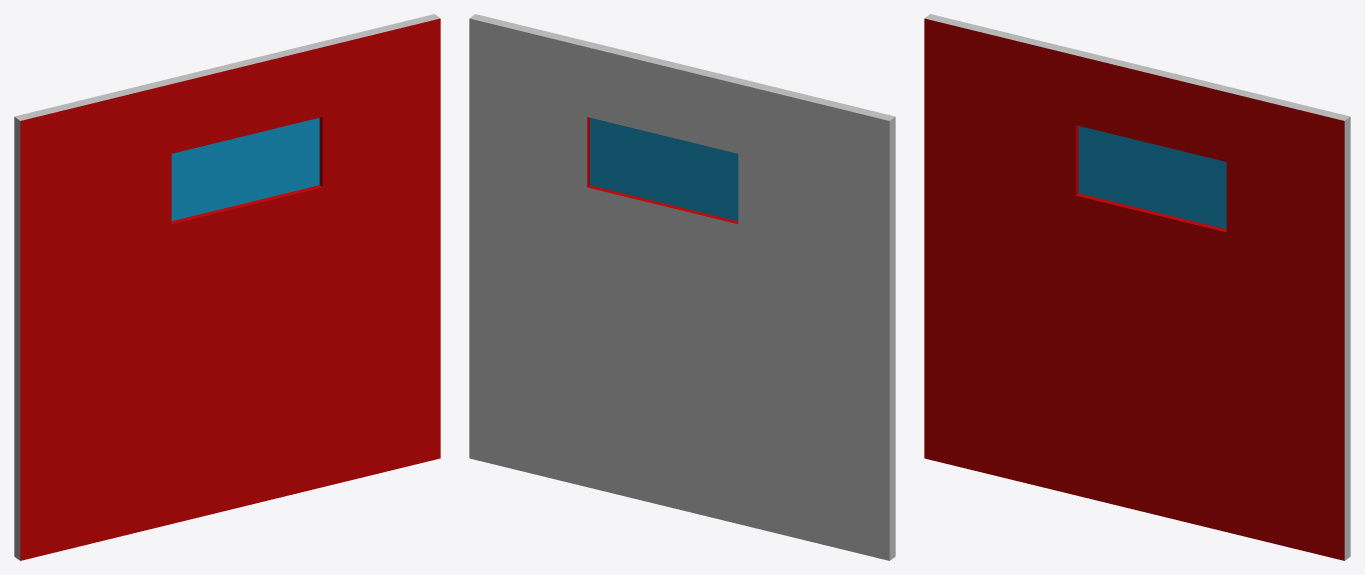
File: WallForPaintingWithWindow.obj
3 views of the same model, side by side, from view 1: azimuth 30°, elevation 25°; view 2: azimuth 150°, elevation 25°; view 3: azimuth 330°, elevation 25° (orthographic).
Parts seen in each view (by area): view 1: Cube_Cube.001; view 2: Cube_Cube.001; view 3: Cube_Cube.001.
Part boxes in pixels (x1,y1,x2,y2): Cube_Cube.001: (14,14,440,560); Cube_Cube.001: (469,14,895,560); Cube_Cube.001: (924,14,1350,560).
Size of the model in its own units: 8 by 8 by 0.2.
